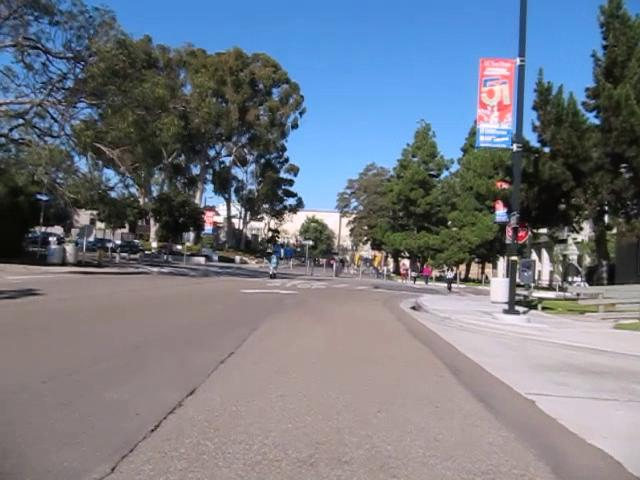stop: (505, 216, 529, 244)
